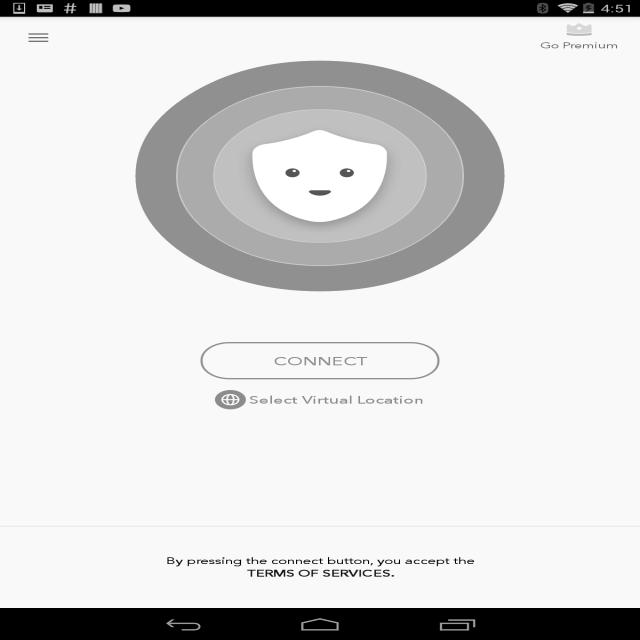Button: (200, 342, 440, 379)
ImageButton: (9, 17, 68, 59)
ImageView: (2, 61, 638, 291), (43, 86, 597, 266), (80, 109, 560, 243), (229, 116, 411, 236)
TextView: (0, 553, 640, 581), (215, 390, 424, 409), (540, 23, 619, 52)
